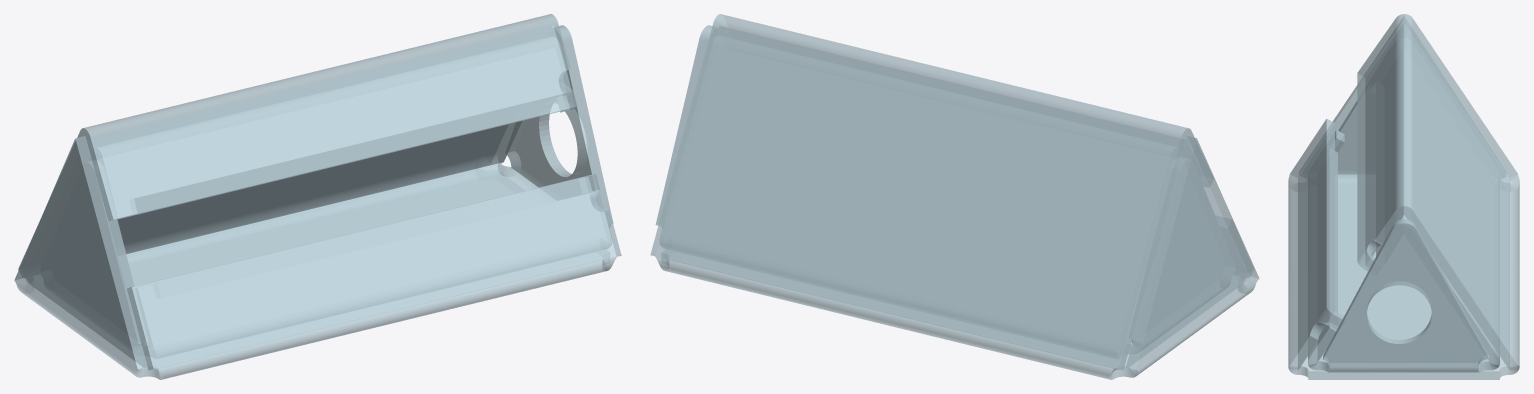
3 renders of one model, left to right at view 1: azimuth 30°, elevation 25°; view 2: azimuth 150°, elevation 25°; view 3: azimuth 270°, elevation 25°, orthographic. The views are drawn at different scales.
Visible parts, largest first — view 1: cover(1)-1, inside-1; view 2: cover(1)-1, inside-1; view 3: inside-1, cover(1)-1.
Part boxes in pixels (x1=…): cover(1)-1: x1=14, y1=14, x2=621, y2=379; inside-1: x1=41, y1=25, x2=613, y2=358; cover(1)-1: x1=650, y1=14, x2=1259, y2=379; inside-1: x1=655, y1=25, x2=1235, y2=358; inside-1: x1=1308, y1=38, x2=1499, y2=372; cover(1)-1: x1=1288, y1=14, x2=1519, y2=379.
Bounding box in the file's own units: 0.1467 × 0.0591 × 0.0712.
